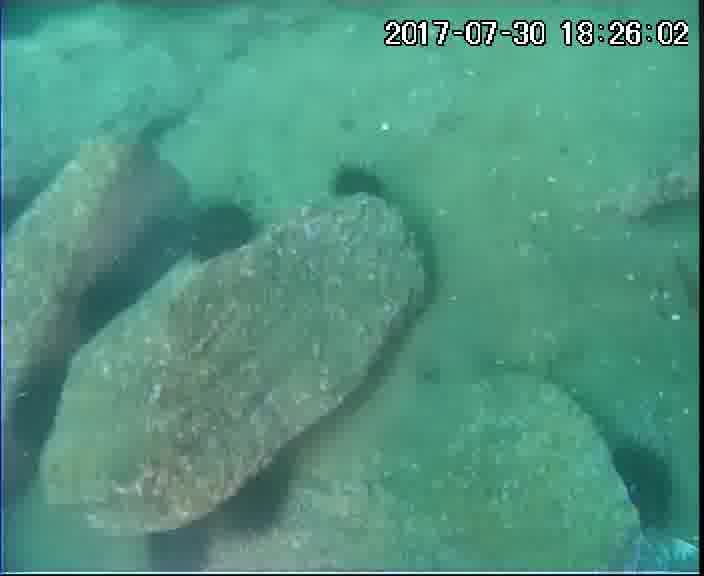echinus: (221, 453, 294, 538), (611, 440, 676, 533), (5, 359, 72, 448), (190, 199, 261, 265), (142, 516, 215, 576), (75, 277, 140, 333), (334, 163, 388, 207)
